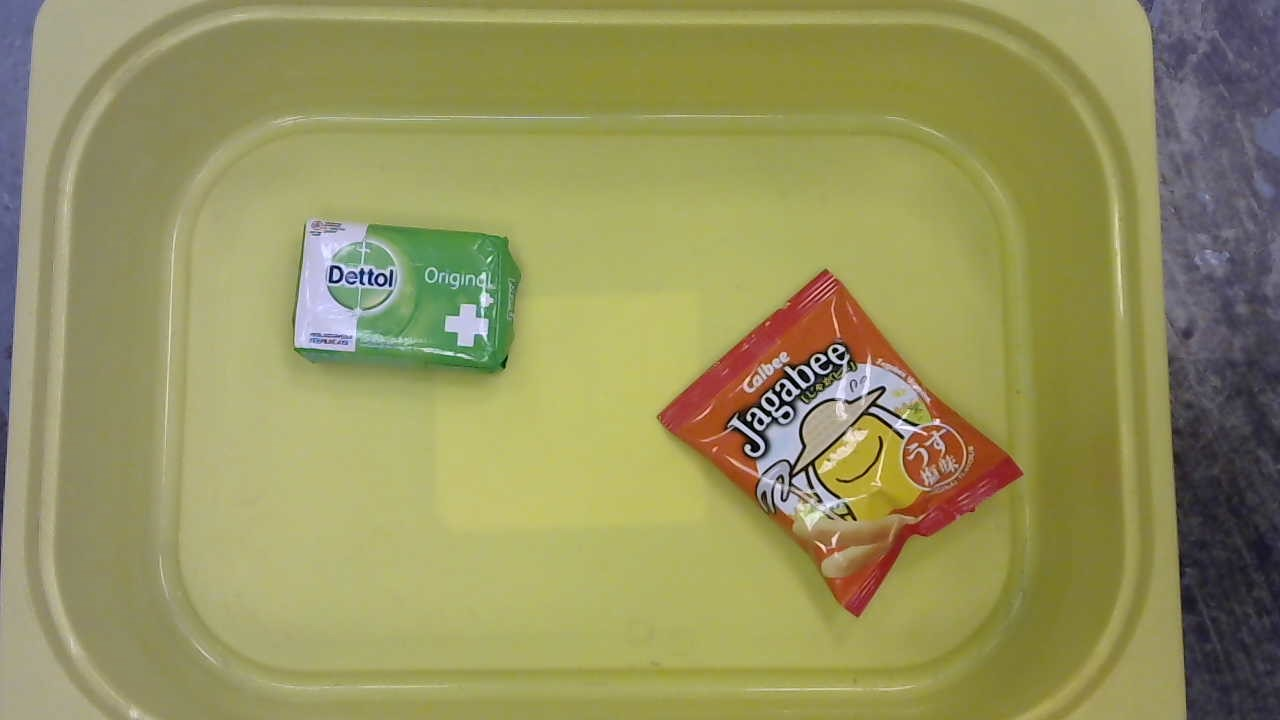Dettol: (284, 215, 524, 377)
JagabeeFarmer: (649, 267, 1027, 622)
